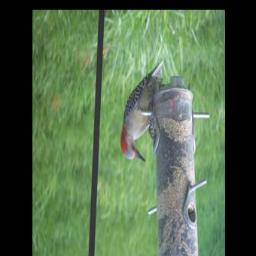Woodpecker: (121, 59, 165, 163)
